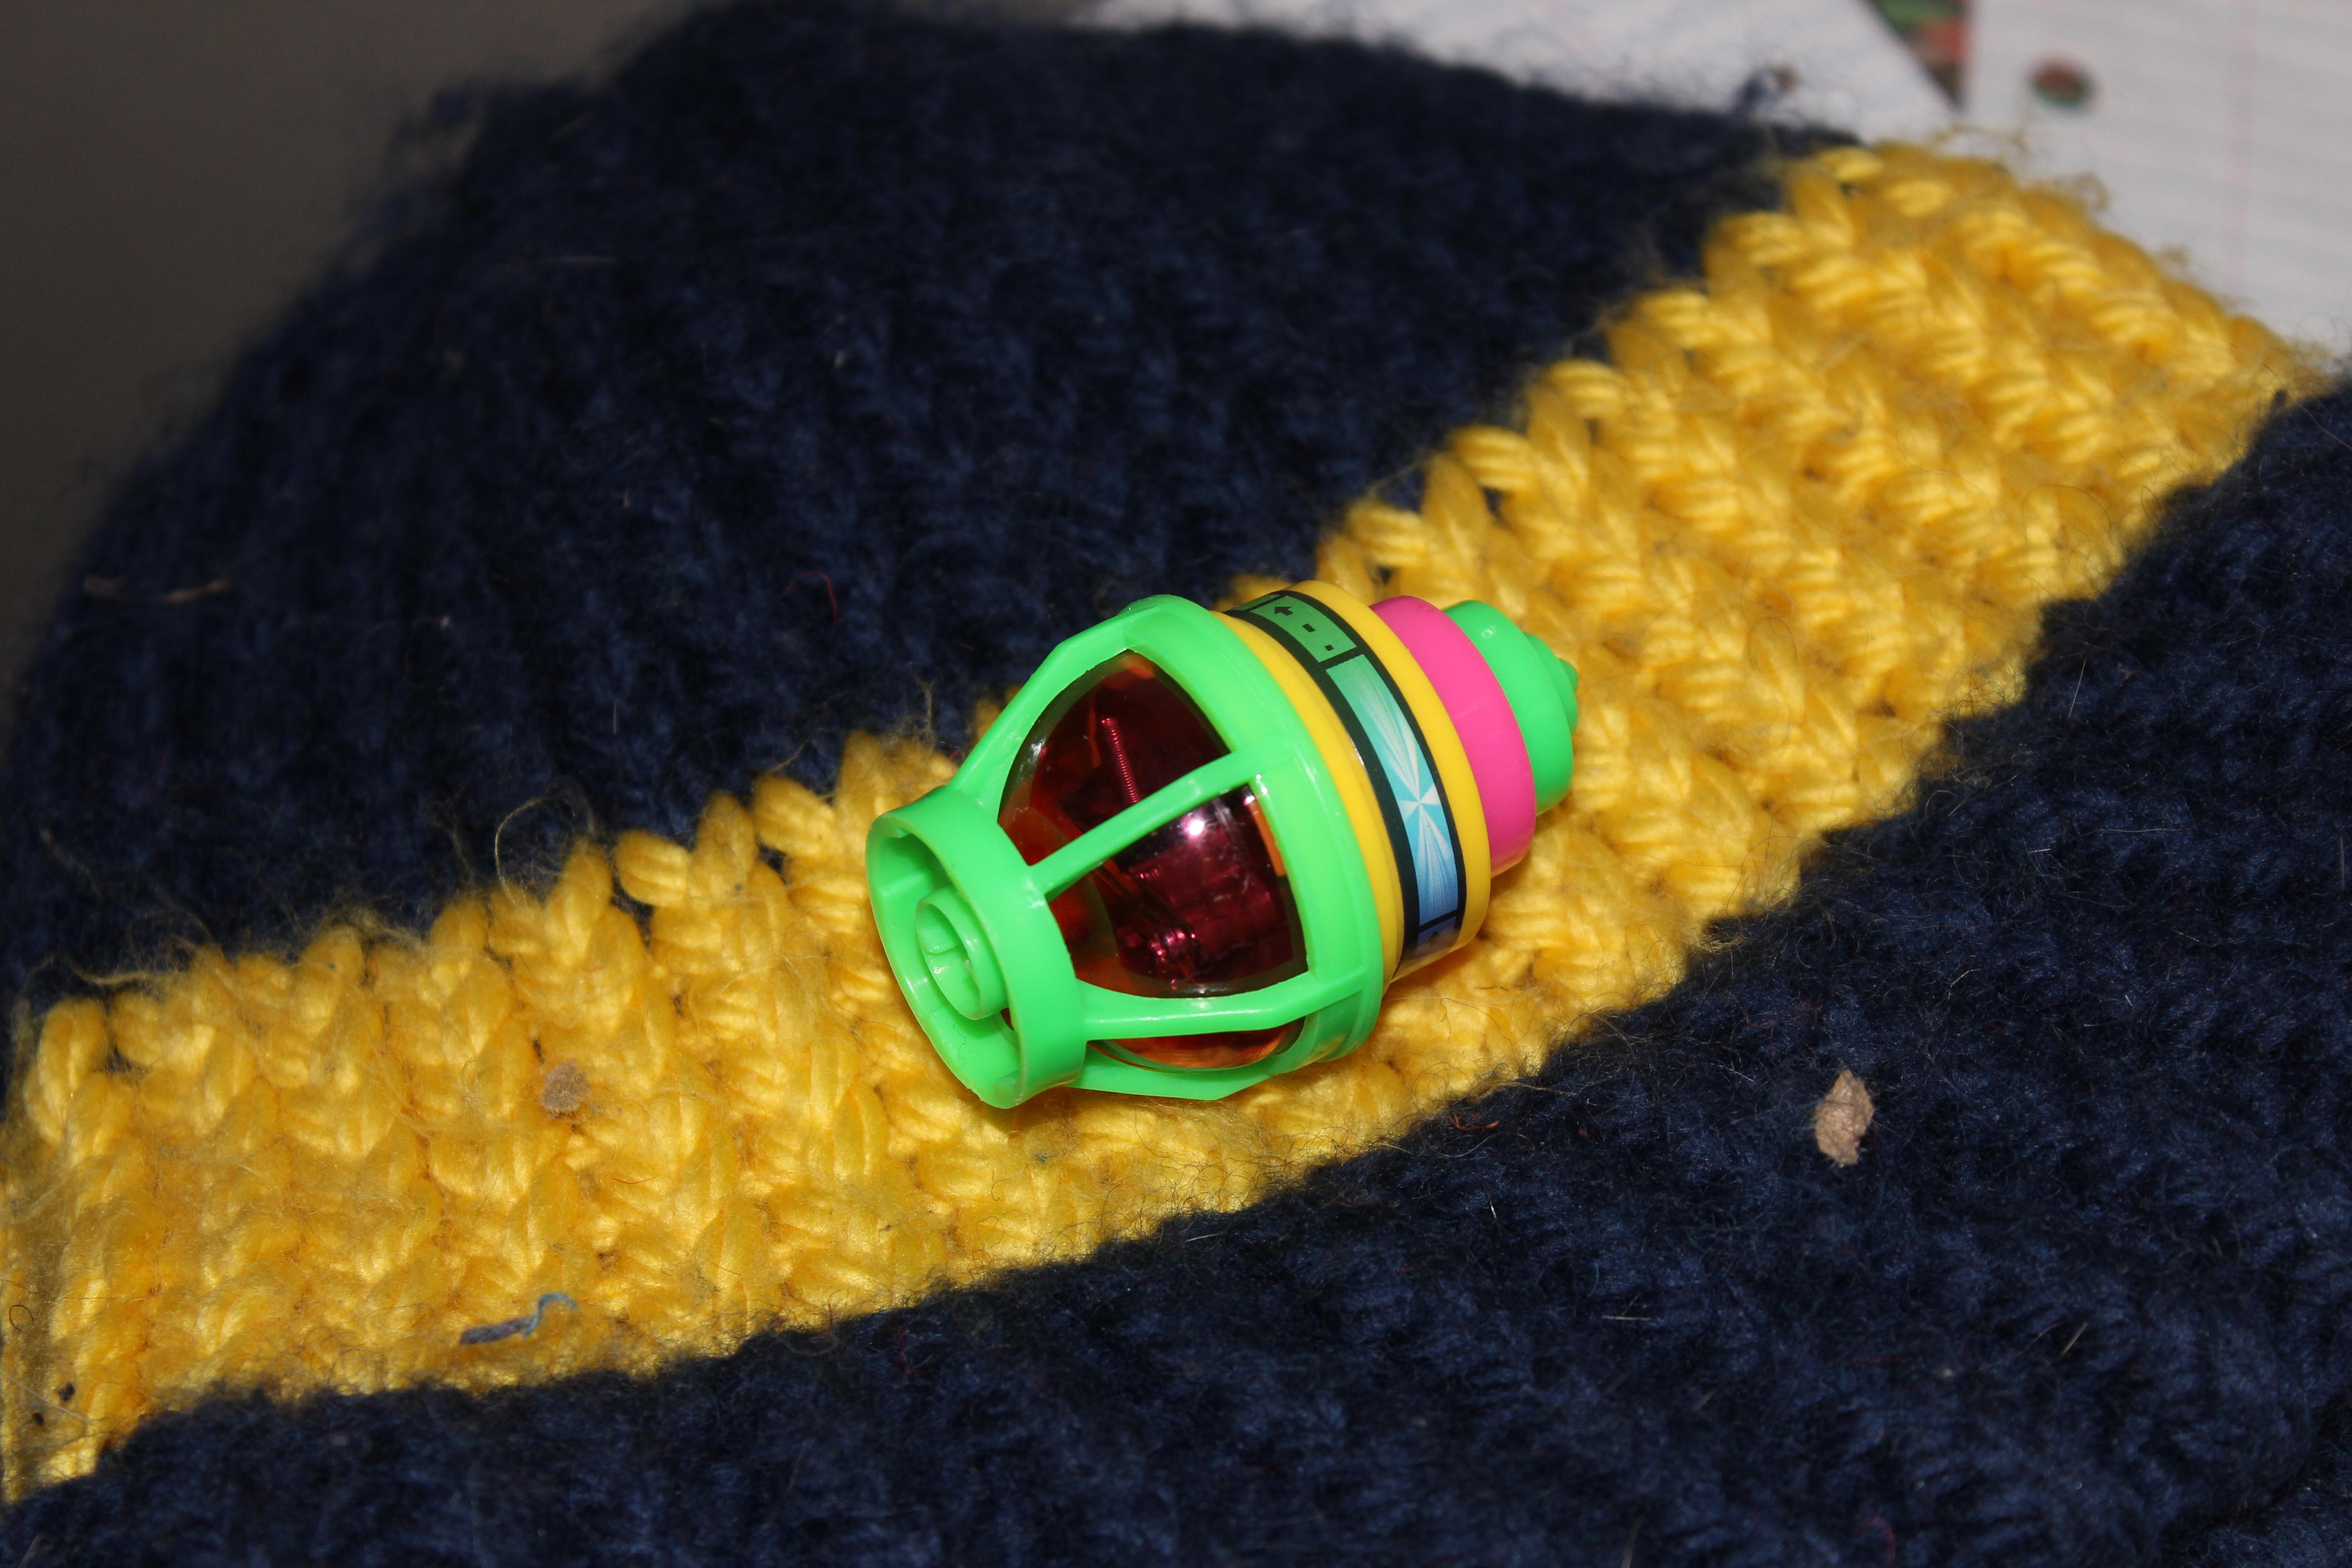gyroscope: (838, 569, 1615, 1148)
